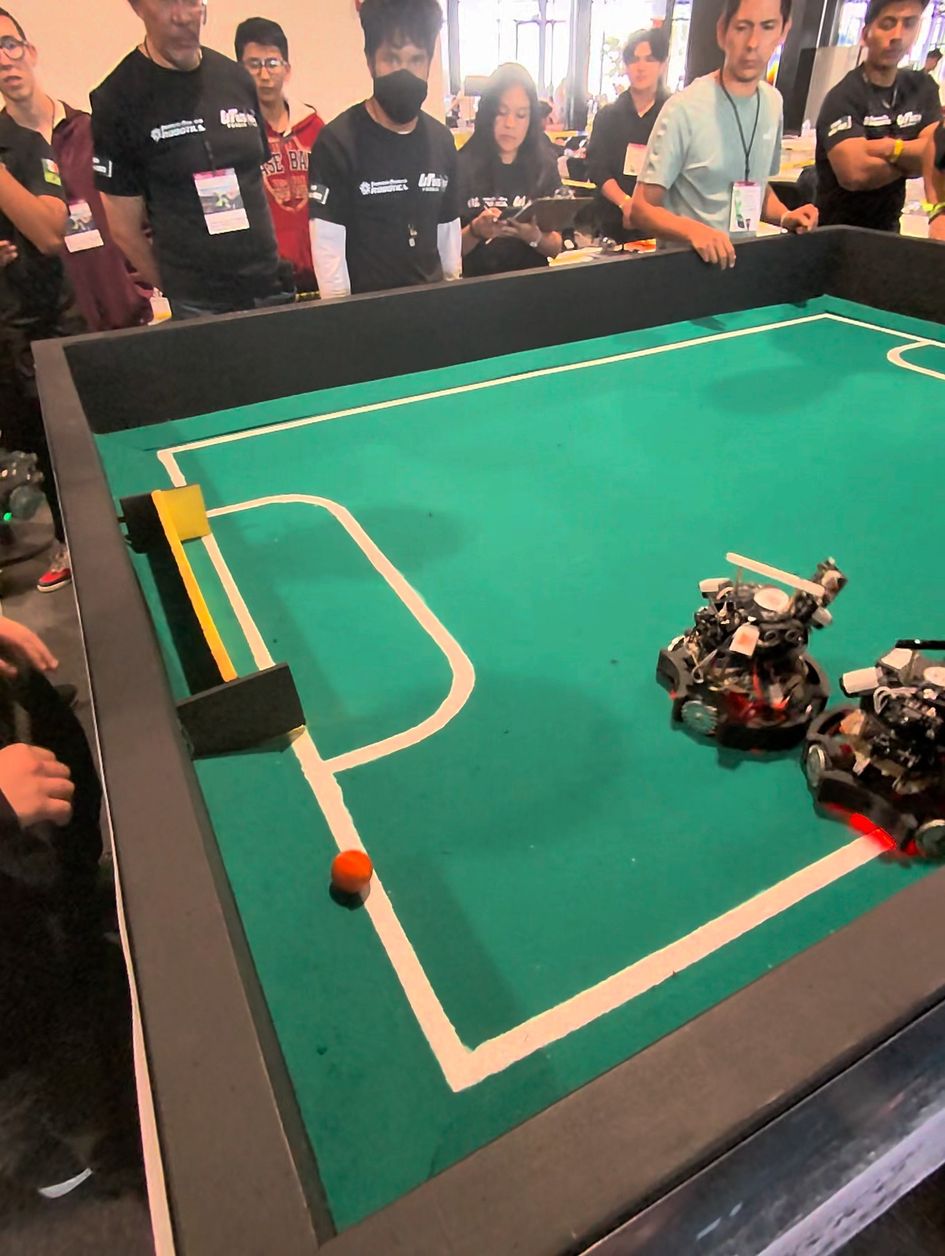Robot: (653, 530, 849, 781), (799, 635, 945, 869)
pelota: (331, 851, 375, 909)
